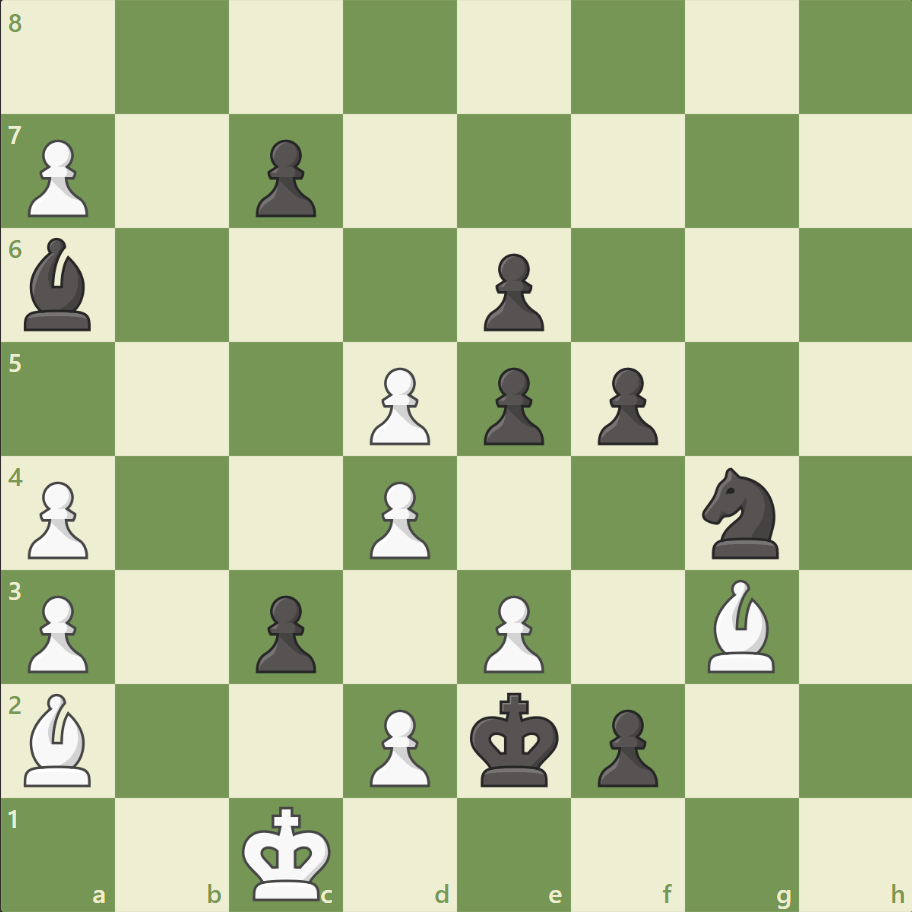B: (17, 687, 101, 790), (698, 574, 782, 676)
K: (238, 798, 338, 906)
P: (20, 132, 95, 223), (20, 473, 95, 564), (20, 586, 95, 677), (474, 586, 549, 677), (361, 359, 435, 450), (361, 473, 435, 564), (361, 700, 435, 791)
b: (17, 233, 101, 336)
k: (465, 685, 565, 793)
n: (692, 461, 789, 564)
p: (247, 132, 322, 223), (474, 246, 549, 337), (474, 359, 549, 450), (247, 586, 322, 677), (588, 359, 662, 450), (588, 700, 662, 791)
